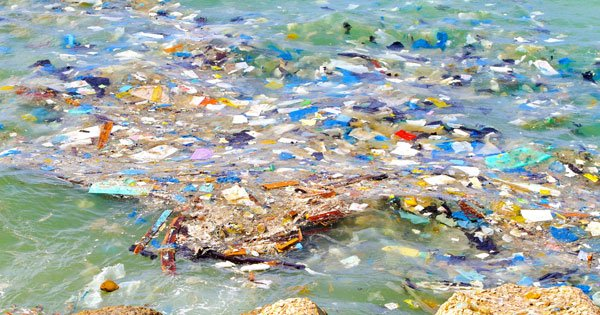litter: (150, 169, 338, 257), (221, 87, 328, 139), (106, 78, 190, 135), (457, 136, 562, 176), (356, 69, 438, 118), (480, 45, 536, 106), (358, 110, 426, 157), (89, 142, 145, 192), (517, 200, 560, 229)
